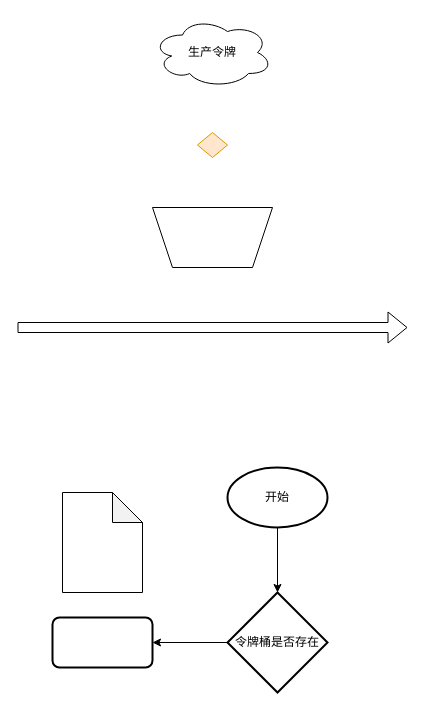
The diagram is 424 pixels wide and 711 high, and some of its shapes have lost their labels. Here are the shapes that lost their labels. From the top down, the centre of each, then its label:
the point at 102,542: 令牌桶的key 最大令牌数 令牌恢复速率
the point at 102,642: 令牌桶初始化
